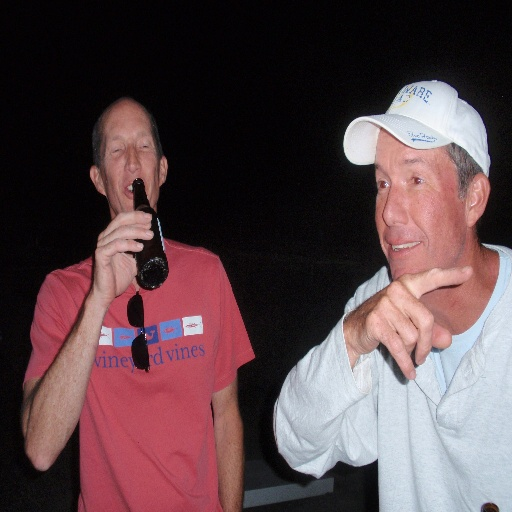hand: (344, 265, 474, 379), (93, 211, 154, 301)
